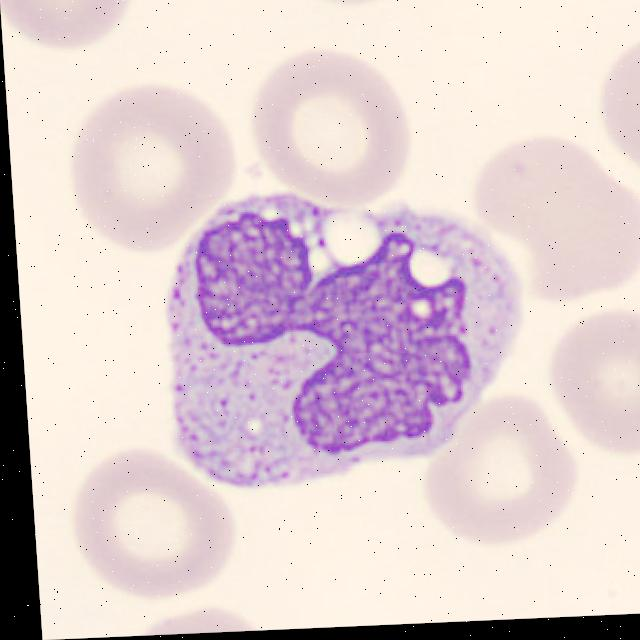monocyte: (126, 180, 548, 487)
rbc: (51, 76, 245, 255), (459, 120, 640, 307), (246, 49, 442, 214), (60, 449, 237, 596), (424, 395, 583, 550), (536, 299, 640, 470), (0, 0, 157, 74), (591, 33, 640, 185), (122, 596, 278, 636), (288, 0, 430, 18)
